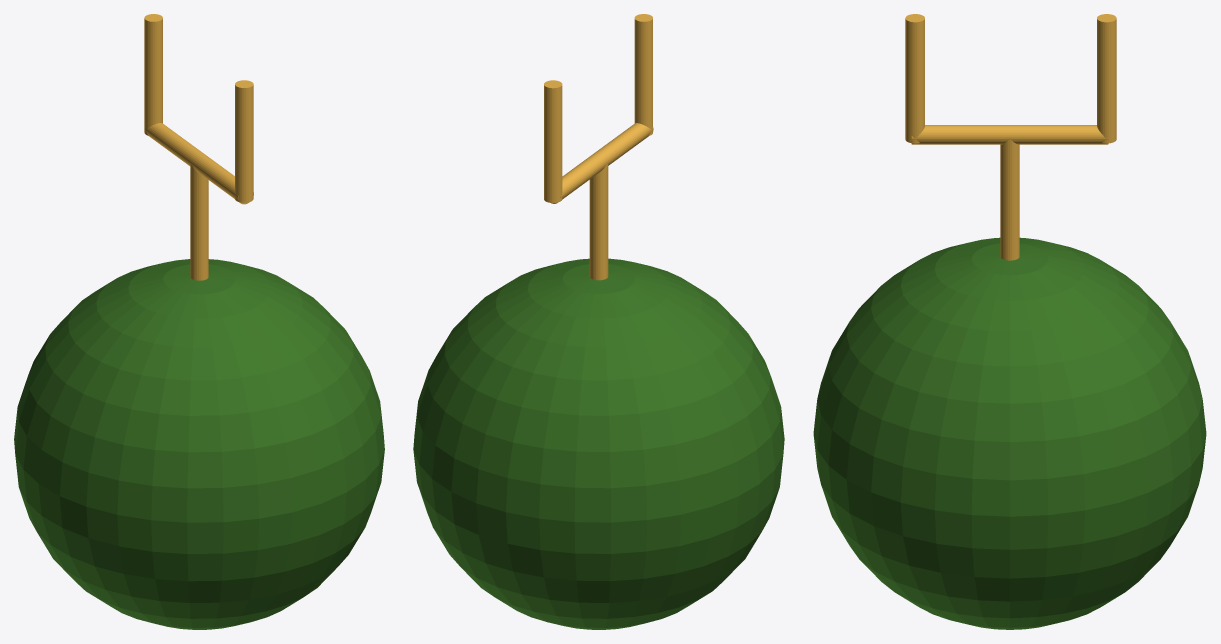
Rendered from usfl.glb.
The picture shows the model from 3 angles, left to right: view 1: azimuth 30°, elevation 25°; view 2: azimuth 150°, elevation 25°; view 3: azimuth 270°, elevation 25°; orthographic projection. The views are drawn at different scales.
Parts seen in each view (by area): view 1: Sphere, Cylinder.003, Cylinder.002, Cylinder, Cylinder.001; view 2: Sphere, Cylinder.002, Cylinder, Cylinder.003, Cylinder.001; view 3: Sphere, Cylinder.001, Cylinder.002, Cylinder.003, Cylinder.
Boxes of the visible parts, <box> form: Sphere: <box>14,259,384,629</box>; Cylinder.003: <box>235,80,253,202</box>; Cylinder.002: <box>144,14,162,135</box>; Cylinder: <box>190,163,208,280</box>; Cylinder.001: <box>145,123,253,204</box>; Sphere: <box>413,258,784,629</box>; Cylinder.002: <box>544,80,562,202</box>; Cylinder: <box>589,162,608,280</box>; Cylinder.003: <box>634,14,652,135</box>; Cylinder.001: <box>551,123,653,203</box>; Sphere: <box>813,237,1206,629</box>; Cylinder.001: <box>911,125,1108,144</box>; Cylinder.002: <box>1097,14,1116,143</box>; Cylinder.003: <box>905,14,924,143</box>; Cylinder: <box>1000,138,1019,260</box>.
Size of the model in its own units: 2 by 3.33 by 2.
